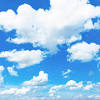sky: (1, 1, 100, 100)
